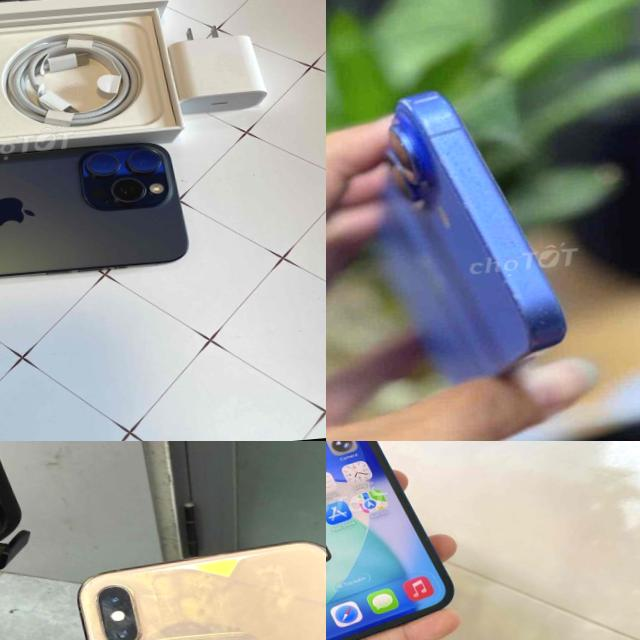gen_12_13: (326, 441, 460, 640)
gen_15: (0, 93, 206, 312)
gen_16: (380, 92, 565, 382)
gen_x_xs: (53, 532, 326, 640)
scratch: (432, 128, 556, 342)
